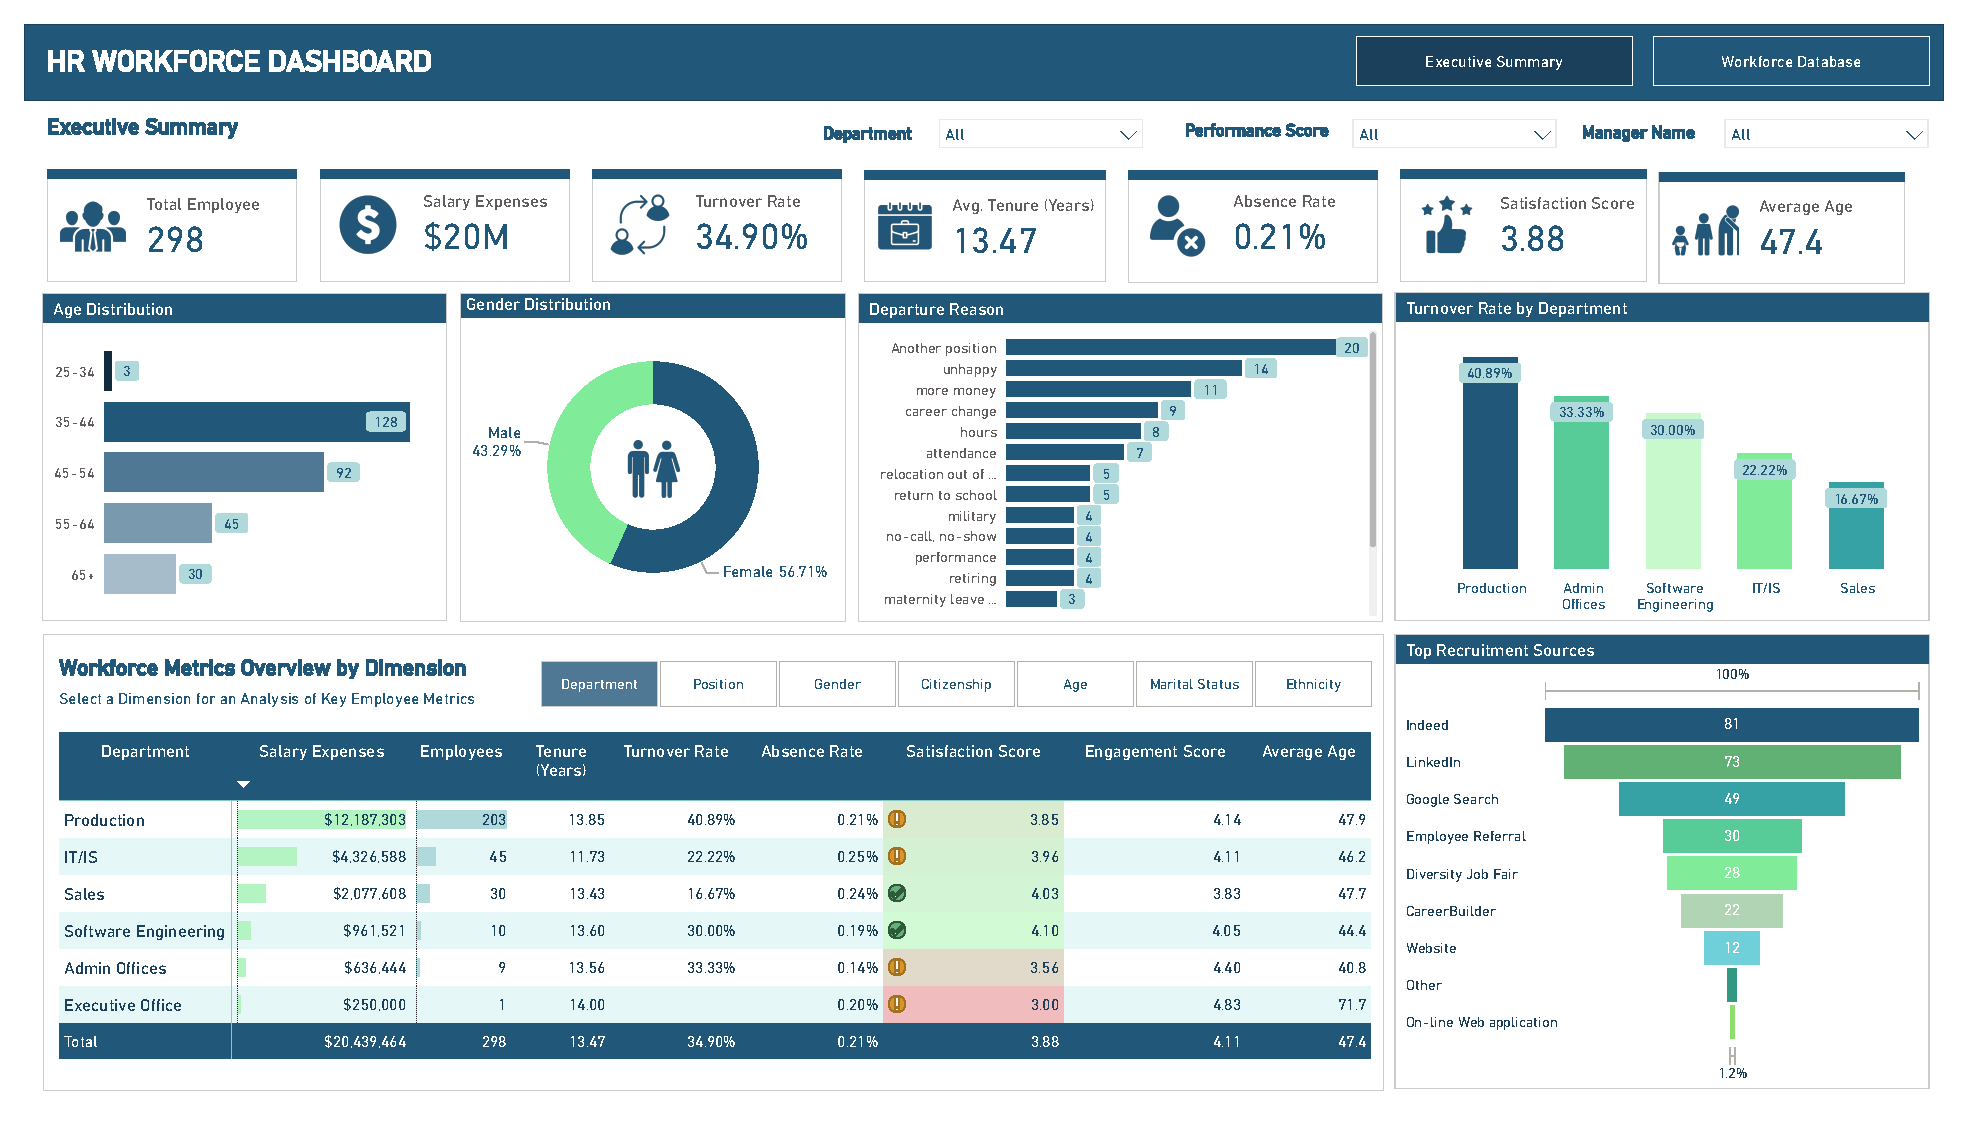

What the dashboard file says about the page in this screenshot:
{"tool":"powerbi","page":{"name":"Executive Summary","canvas":[1920,1080],"ordinal":0},"visuals":[{"type":"shape","box":[0,0,1920,77],"z":0},{"type":"textbox","box":[18,15,674,45],"z":1000},{"type":"textbox","box":[18,85,287,46],"z":2000},{"type":"cardVisual","fields":{"Data":["Measure.Total Employee"]},"box":[18,145,260,113],"z":3000},{"type":"barChart","title":"Age Distribution","fields":{"Category":["Employee.Age Category","Department.Department"],"Y":["Measure.Total Employee"]},"box":[18,269,405,328],"z":4000},{"type":"slicer","fields":{"Values":["Department.Department"]},"box":[905,85,224,46],"z":5000},{"type":"donutChart","title":"Gender Distribution","fields":{"Category":["Employee.Gender"],"Y":["Measure.Total Employee"]},"box":[436,269,386,329],"z":6000},{"type":"barChart","title":"Departure Reason","fields":{"Y":["Measure.Total Employee"],"Category":["Employee.TerminationReason"]},"box":[834,269,525,328.6],"z":7000},{"type":"clusteredColumnChart","title":"Turnover Rate by Department","fields":{"Category":["Department.Department"],"Y":["Measure.Employee Turnover Rate"]},"box":[1371,268.3,535,328.3],"z":8000},{"type":"pivotTable","title":"Workforce Metrics Overview by Dimension","fields":{"Rows":["Department.Department"],"Values":["Measure.Total Salary Expenses","Measure.Total Employee","Measure.Avg. Tenure","Measure.Employee Turnover Rate","Measure.Avg. Asenteeism Rate","Measure.Avg. Satisfaction Score","Measure.Avg. Engagement Score","Measure.Avg. Age"]},"box":[19,610,1341,457],"z":9000},{"type":"advancedSlicerVisual","fields":{"Values":["Dimension.Demographics"]},"box":[517,637,831.2,46.2],"z":10000},{"type":"funnel","title":"Top Recruitment Sources","fields":{"Category":["Employee.RecruitmentSource"],"Y":["Measure.Total Employee"]},"box":[1371,610,535,455],"z":11000},{"type":"textbox","box":[794,94,109,34],"z":12000},{"type":"textbox","box":[1156,91,163,33],"z":13000},{"type":"textbox","box":[1553,93,137,34],"z":14000},{"type":"slicer","fields":{"Values":["Performance.PerformanceScore"]},"box":[1319,85,224,46],"z":15000},{"type":"slicer","fields":{"Values":["Manager.ManagerName"]},"box":[1691,85,224,46],"z":16000},{"type":"cardVisual","fields":{"Data":["Measure.Total Salary Expenses"]},"box":[291,145,260,113],"z":17000},{"type":"cardVisual","fields":{"Data":["Measure.Employee Turnover Rate"]},"box":[563,145,260,113],"z":18000},{"type":"cardVisual","fields":{"Data":["Measure.Avg. Tenure"]},"box":[835,146,252,112],"z":19000},{"type":"cardVisual","fields":{"Data":["Measure.Avg. Absenteeism Rate"]},"box":[1099,146,260,113],"z":20000},{"type":"cardVisual","fields":{"Data":["Measure.Avg. Satisfaction Score"]},"box":[1371,145,257,113],"z":21000},{"type":"cardVisual","fields":{"Data":["Measure.Avg. Age"]},"box":[1630,148,256,112],"z":22000},{"type":"image","box":[601.2,413.8,57.5,61.2],"z":23000},{"type":"pageNavigator","box":[1332,12,575,50],"z":24000}]}

Visuals, with their boxes in screenshot pixels (x1, y1, x2, y2), scaled from the page's 1920x1080 canvas onto the 1968x1128 screenshot:
shape: [0, 0, 1967, 80]
textbox: [18, 16, 709, 63]
textbox: [18, 89, 313, 137]
cardVisual - Measure.Total Employee: [18, 151, 285, 269]
"Age Distribution" barChart: [18, 281, 434, 624]
slicer - Department.Department: [928, 89, 1157, 137]
"Gender Distribution" donutChart: [447, 281, 843, 625]
"Departure Reason" barChart: [855, 281, 1393, 624]
"Turnover Rate by Department" clusteredColumnChart: [1405, 280, 1954, 623]
"Workforce Metrics Overview by Dimension" pivotTable: [19, 637, 1394, 1114]
advancedSlicerVisual - Dimension.Demographics: [530, 665, 1382, 714]
"Top Recruitment Sources" funnel: [1405, 637, 1954, 1112]
textbox: [814, 98, 926, 134]
textbox: [1185, 95, 1352, 130]
textbox: [1592, 97, 1732, 133]
slicer - Performance.PerformanceScore: [1352, 89, 1582, 137]
slicer - Manager.ManagerName: [1733, 89, 1963, 137]
cardVisual - Measure.Total Salary Expenses: [298, 151, 565, 269]
cardVisual - Measure.Employee Turnover Rate: [577, 151, 844, 269]
cardVisual - Measure.Avg. Tenure: [856, 152, 1114, 269]
cardVisual - Measure.Avg. Absenteeism Rate: [1126, 152, 1393, 271]
cardVisual - Measure.Avg. Satisfaction Score: [1405, 151, 1669, 269]
cardVisual - Measure.Avg. Age: [1671, 155, 1933, 272]
image: [616, 432, 675, 496]
pageNavigator: [1365, 13, 1955, 65]
